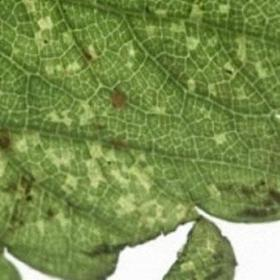Angular Leafspot: (0, 0, 279, 279)
